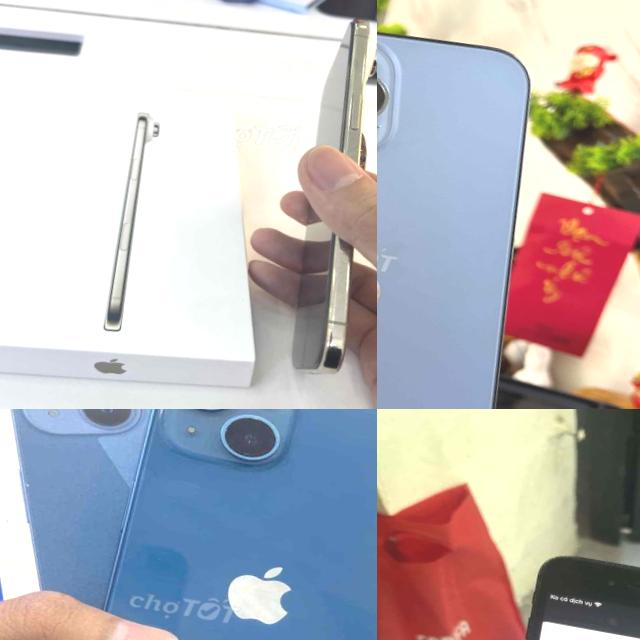gen_12_13: (377, 1, 567, 409), (54, 409, 377, 640)
gen_17: (260, 0, 377, 380)
gen_7_8: (456, 542, 640, 640)
scratch: (534, 550, 628, 576), (509, 628, 534, 640)
